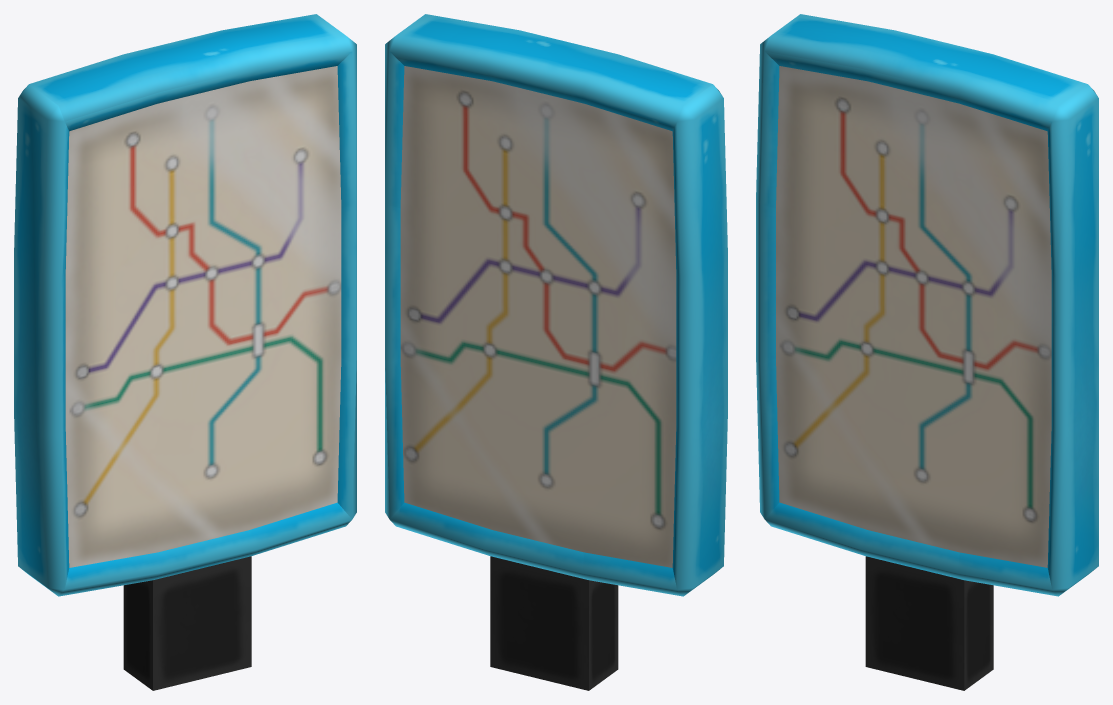
Rendered from panneau_sol.fbx.
The picture shows the model from 3 angles, left to right: view 1: azimuth 30°, elevation 25°; view 2: azimuth 150°, elevation 25°; view 3: azimuth 330°, elevation 25°; orthographic projection.
Visible parts, largest first — view 1: panneau_sol; view 2: panneau_sol; view 3: panneau_sol.
Boxes of the visible parts, x1,y1,x2,y2 form: panneau_sol: (14,14,356,690); panneau_sol: (385,14,727,690); panneau_sol: (756,14,1098,690).
Bounding box in the file's own units: 59.81 × 112 × 13.97.
